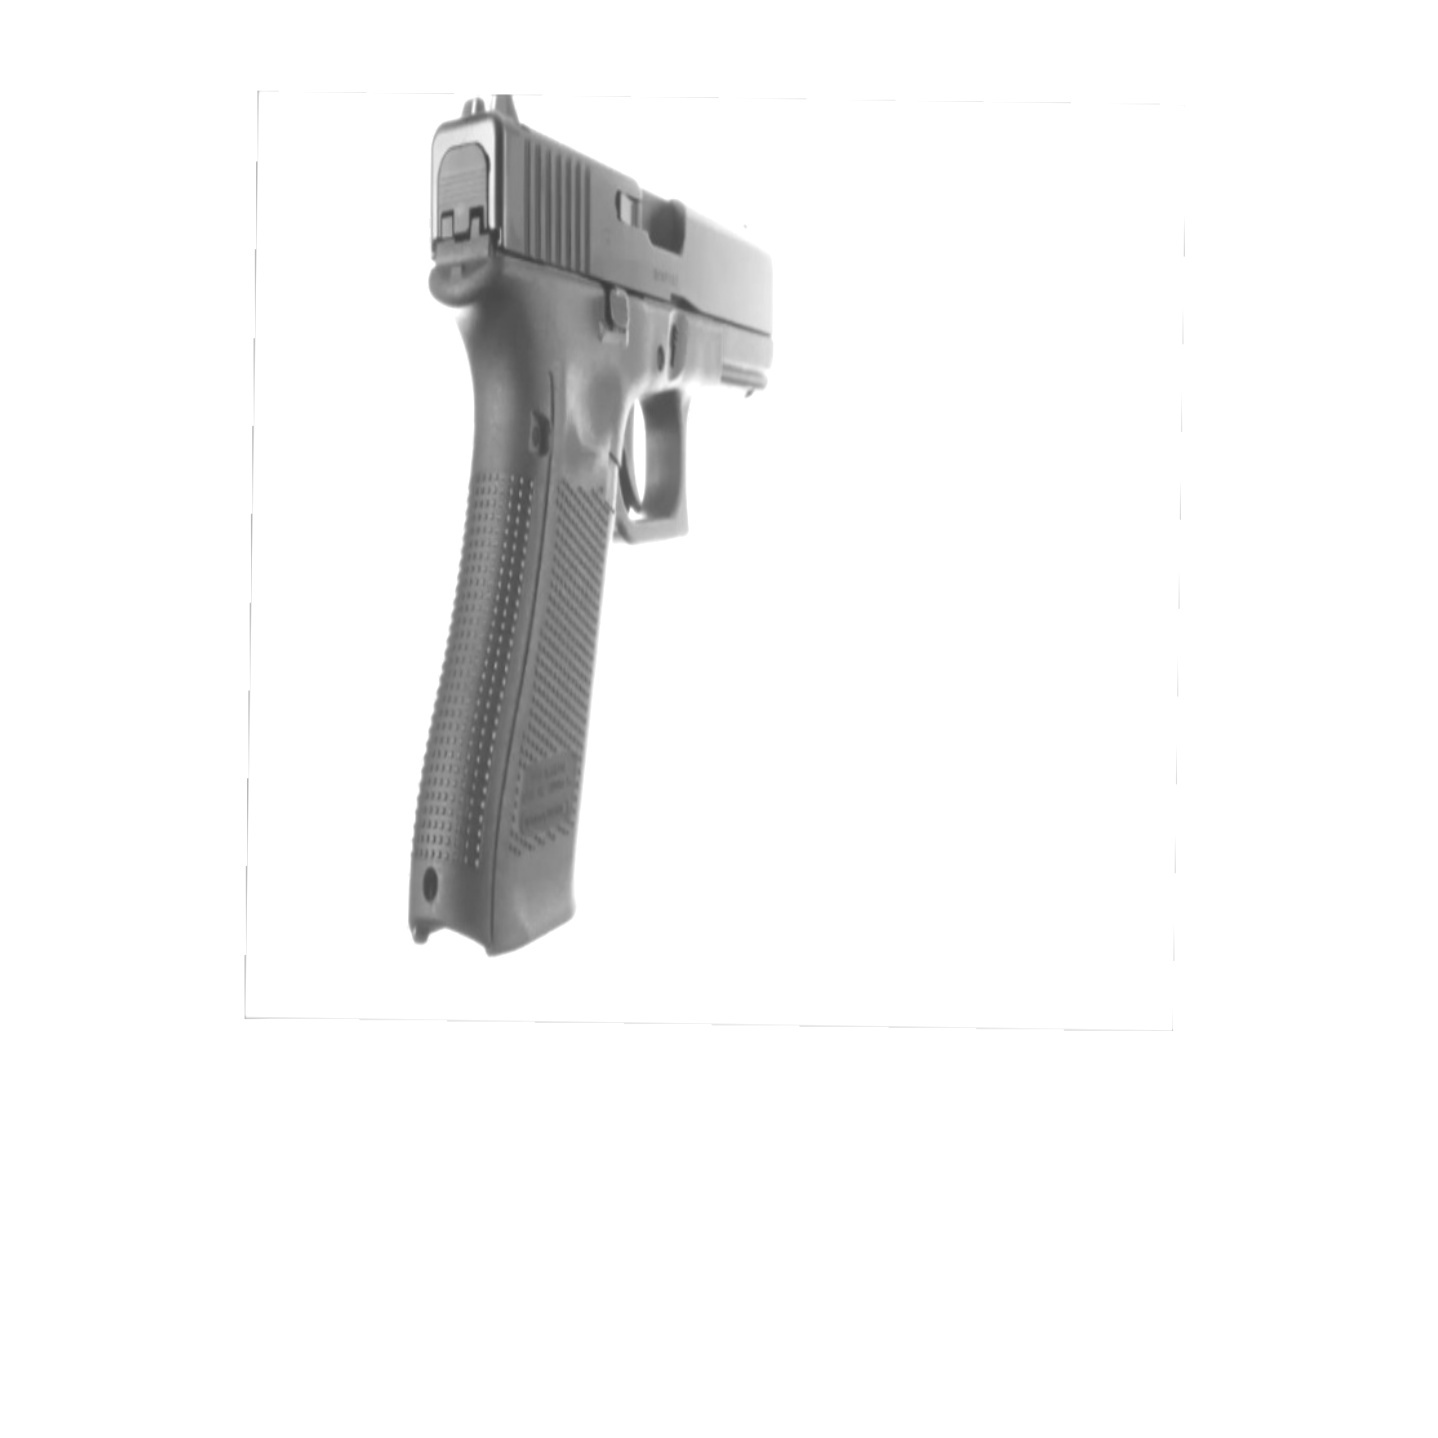gun: (408, 95, 774, 956)
